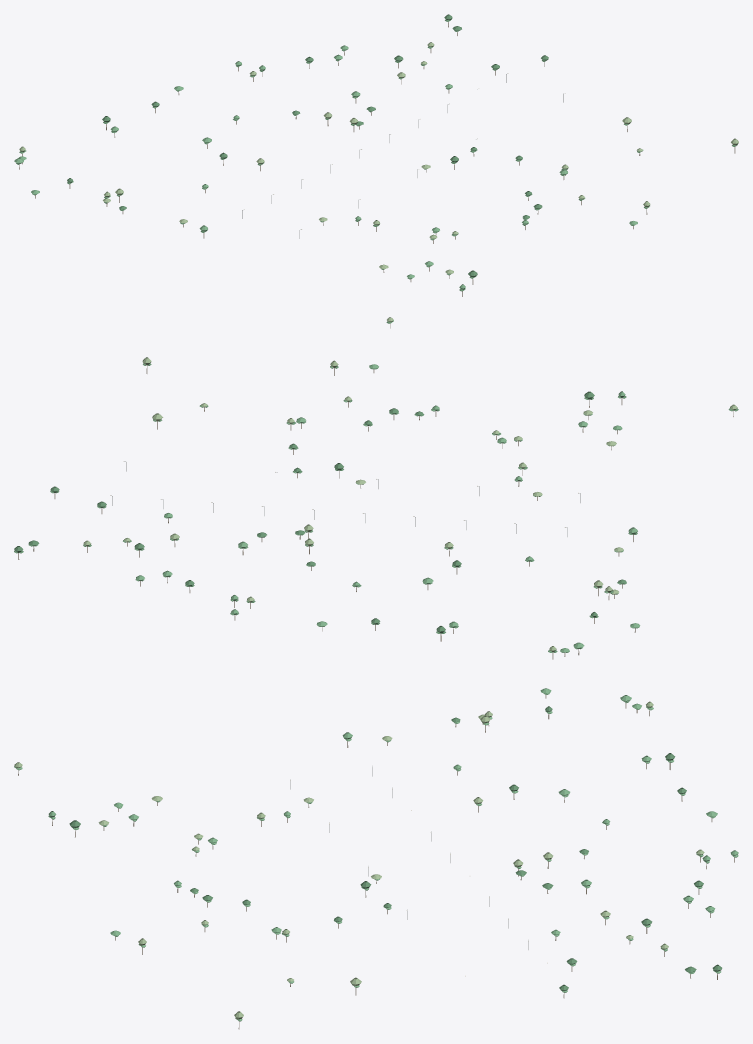
3 views of the same model, one above another, from view 1: azimuth 30°, elevation 25°; view 2: azimuth 150°, elevation 25°; view 3: azimuth 270°, elevation 25° (orthographic). The views are drawn at different scales.
Visible parts, largest first — view 1: Shewrapara neighborhood furniture (approximate); view 2: Shewrapara neighborhood furniture (approximate); view 3: Shewrapara neighborhood furniture (approximate).
Boxes of the visible parts, left/top/right/bottom form: Shewrapara neighborhood furniture (approximate): left=14, top=14, right=738, bottom=328; Shewrapara neighborhood furniture (approximate): left=14, top=357, right=738, bottom=659; Shewrapara neighborhood furniture (approximate): left=14, top=688, right=738, bottom=1029.
Bounding box in the file's own units: 505 × 12.28 × 461.
